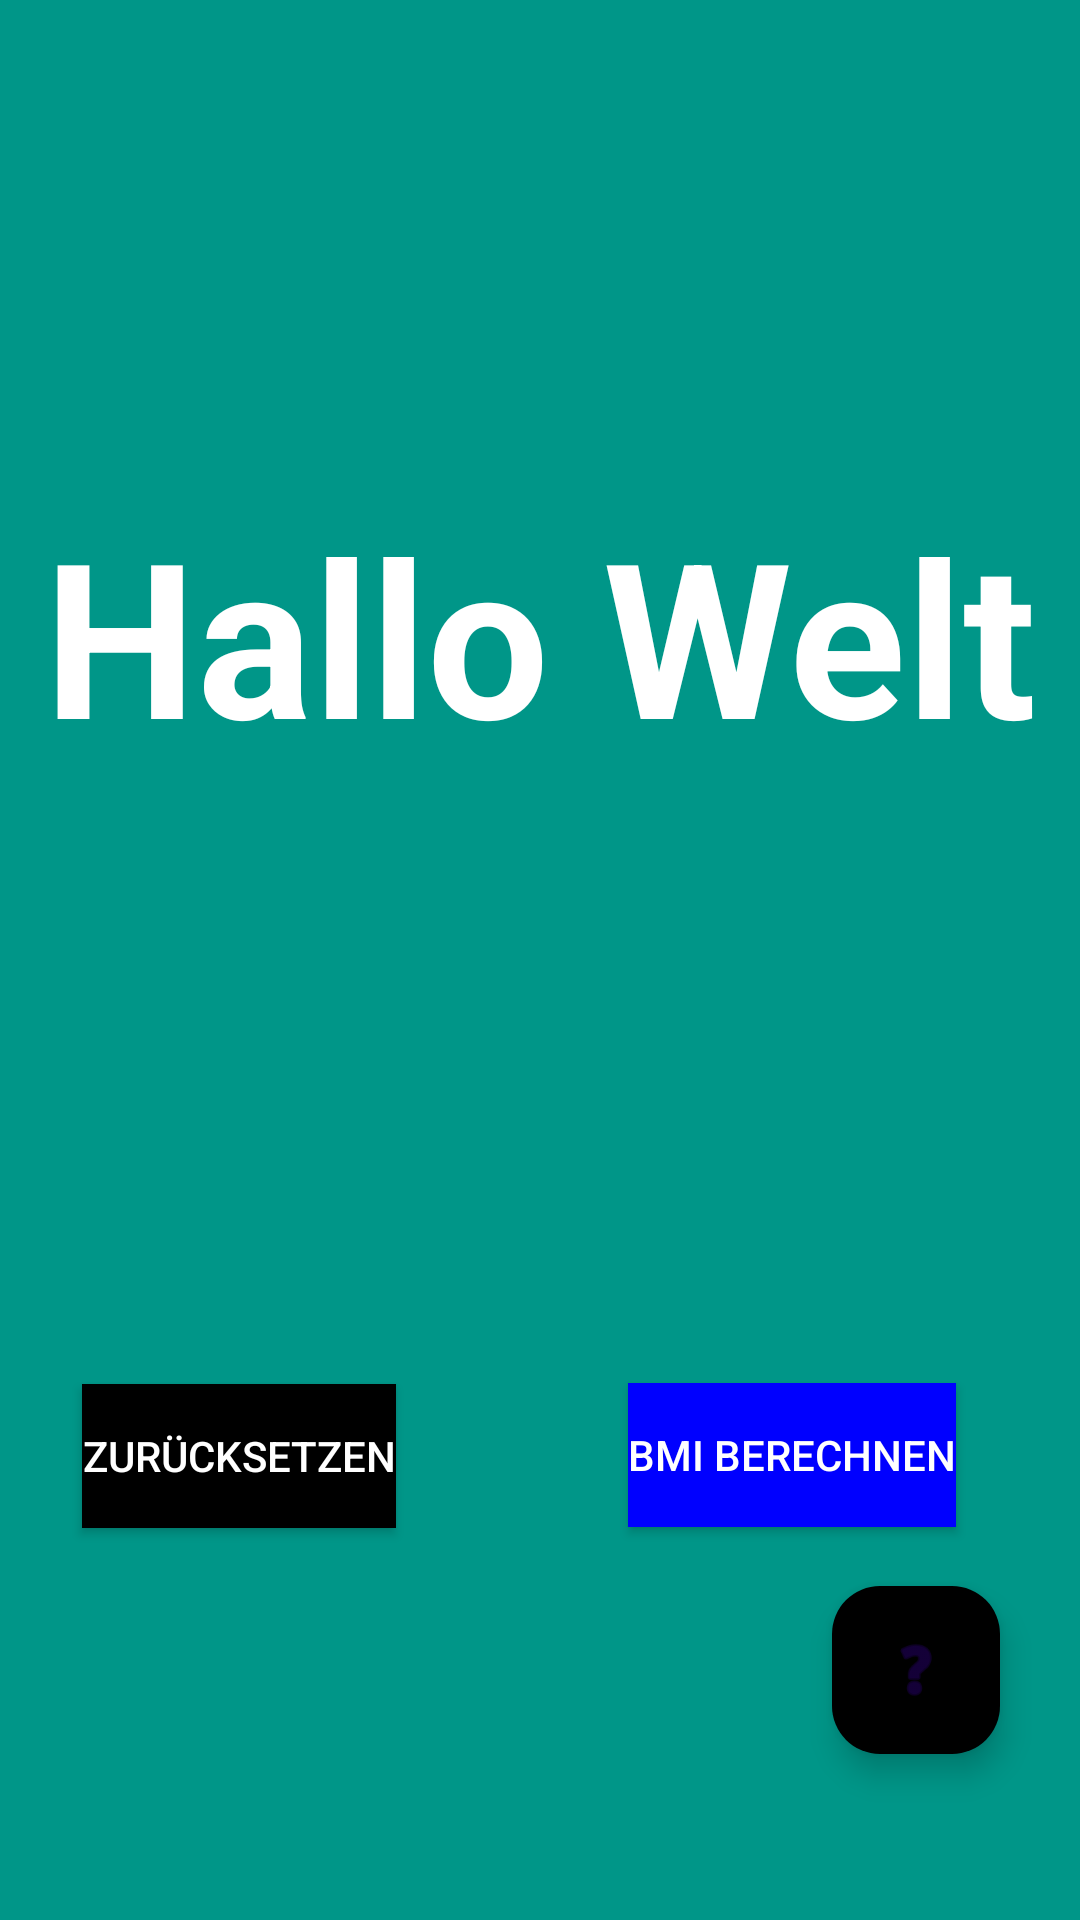

Point at icon controls on the screen. Image size 1080x1920, points as [x,y].
help: [916,1670]
